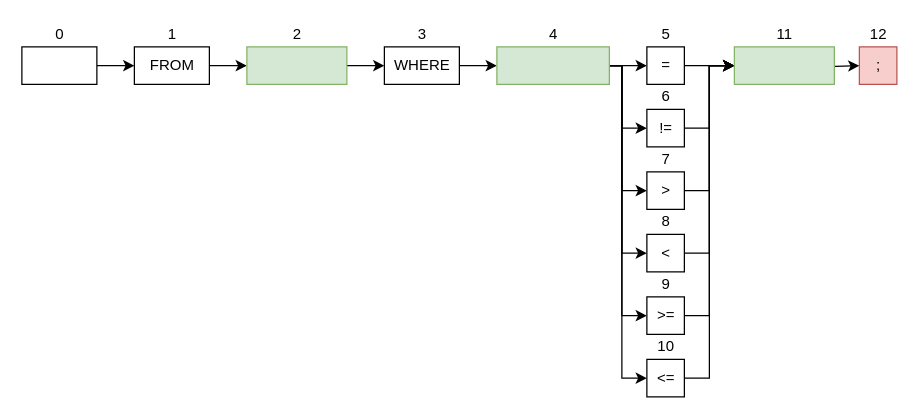
Some shapes in this 919 by 419 pixel diagram are drawn without their labels. The shapes that lost their labels are listed below. From the top down, each one's box as (x1, y1, x2, y2) in pixels, then its label:
(21, 46, 97, 84): DELETE
(246, 46, 347, 84): Table Name
(496, 46, 609, 84): Column Name
(733, 46, 834, 84): Constant
